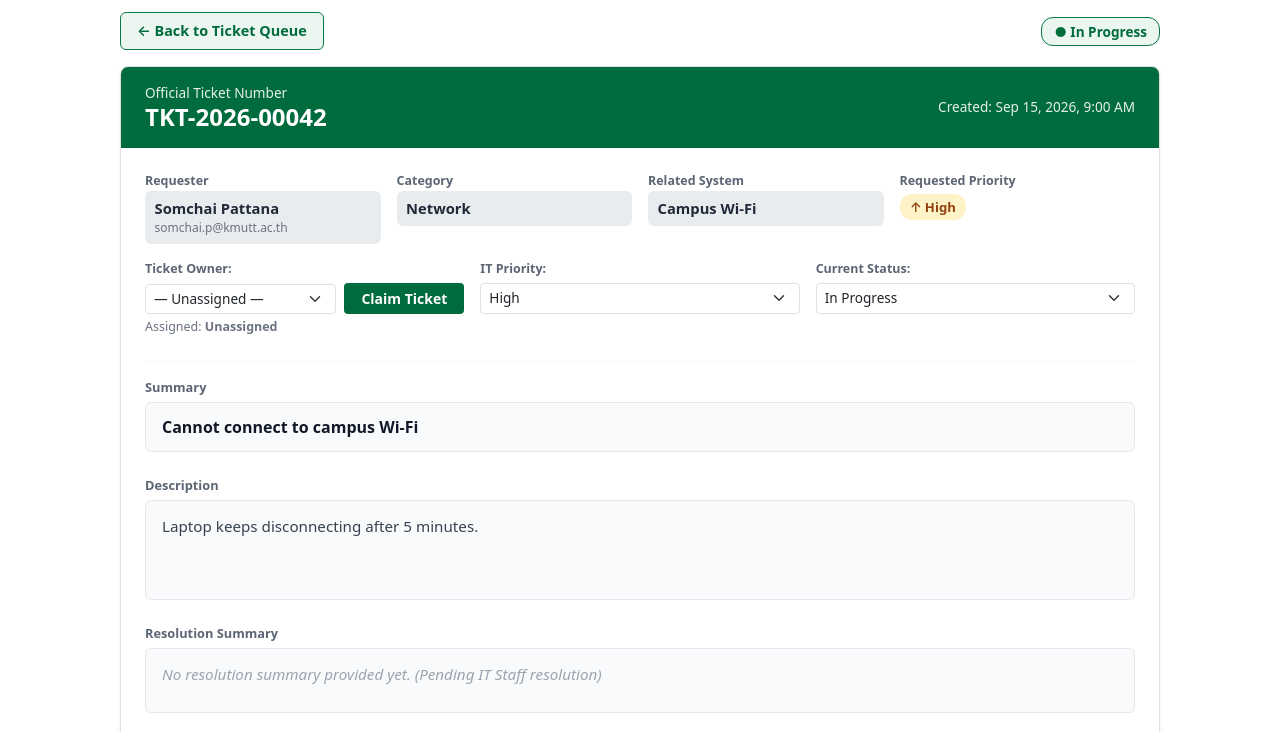
Lab 3 Ticket Detail Screen Component Tests (Feature-11) › UI-05: Ticket Detail claim action and owner change (AC-09, FR-20) › renders unassigned state and allows IT Staff to click Claim Ticket
Expected: the heading "TKT-2026-00042" is shown, [145,103,327,132]
# Click Claim Ticket
Click the button "Claim Ticket" at (404, 299), box [344,283,464,314]
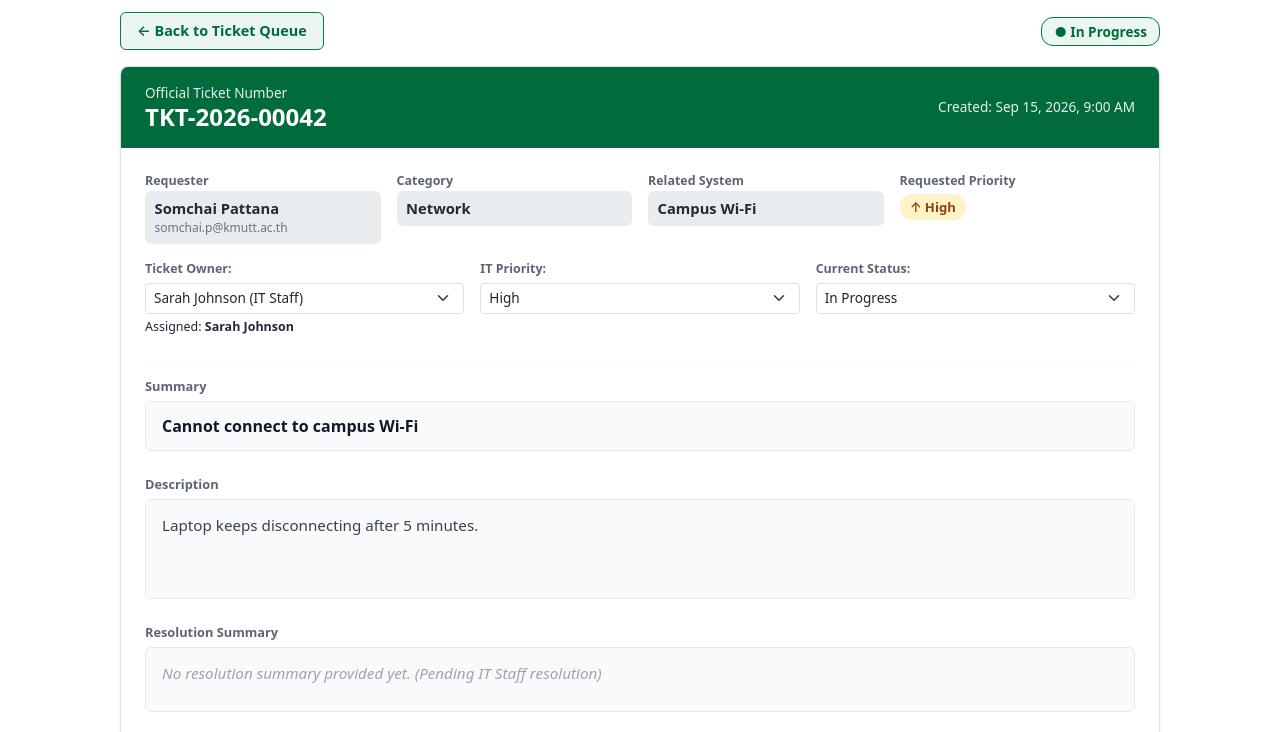
Expected: the button "Claim Ticket" is gone
